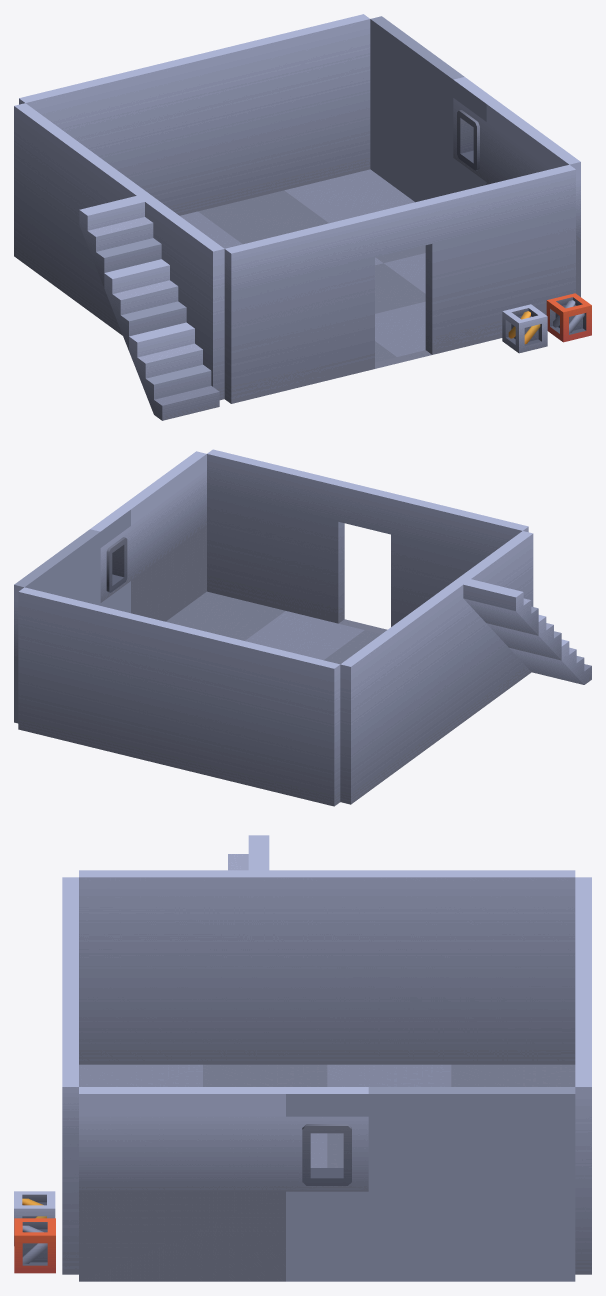
Rendered from kenney_prototype_01.glb.
3 views of the same model, one above another, from view 1: azimuth 30°, elevation 25°; view 2: azimuth 150°, elevation 25°; view 3: azimuth 270°, elevation 25° (orthographic). The views are drawn at different scales.
Visible parts, largest first — view 1: wall.001, wall.004, wall.003, wall-window-medium.001, stairs-diagonal.001, floor-square.002, crate.001, crate-color.001; view 2: wall.004, wall.001, wall.003, wall-window-medium.001, floor-square.002, stairs-diagonal.001; view 3: wall.003, wall-window-medium.001, floor-square.002, wall.001, wall.004, crate-color.001, crate.001, stairs-diagonal.001.
Part boxes in pixels (box(x1,y1,x2,y2)): wall.001: box(224, 164, 575, 403); wall.004: box(19, 14, 370, 215); wall.003: box(14, 103, 224, 400); wall-window-medium.001: box(370, 16, 580, 296); stairs-diagonal.001: box(79, 196, 219, 420); floor-square.002: box(180, 169, 425, 362); crate.001: box(502, 304, 547, 353); crate-color.001: box(546, 293, 591, 342); wall.004: box(18, 587, 340, 806); wall.001: box(207, 449, 528, 633); wall.003: box(340, 531, 533, 804); wall-window-medium.001: box(14, 451, 206, 723); floor-square.002: box(166, 591, 381, 664); stairs-diagonal.001: box(463, 579, 591, 684); wall.003: box(79, 870, 575, 1064); wall-window-medium.001: box(79, 1087, 575, 1281); floor-square.002: box(79, 1064, 575, 1167); wall.001: box(62, 877, 78, 1274); wall.004: box(575, 877, 591, 1274); crate-color.001: box(14, 1218, 55, 1273); crate.001: box(14, 1191, 55, 1245); stairs-diagonal.001: box(228, 835, 269, 870).
Size of what is drawn, in the model's own units: 7.45 by 2.51 by 6.99.
Materials: 6 (6 with a texture image).
